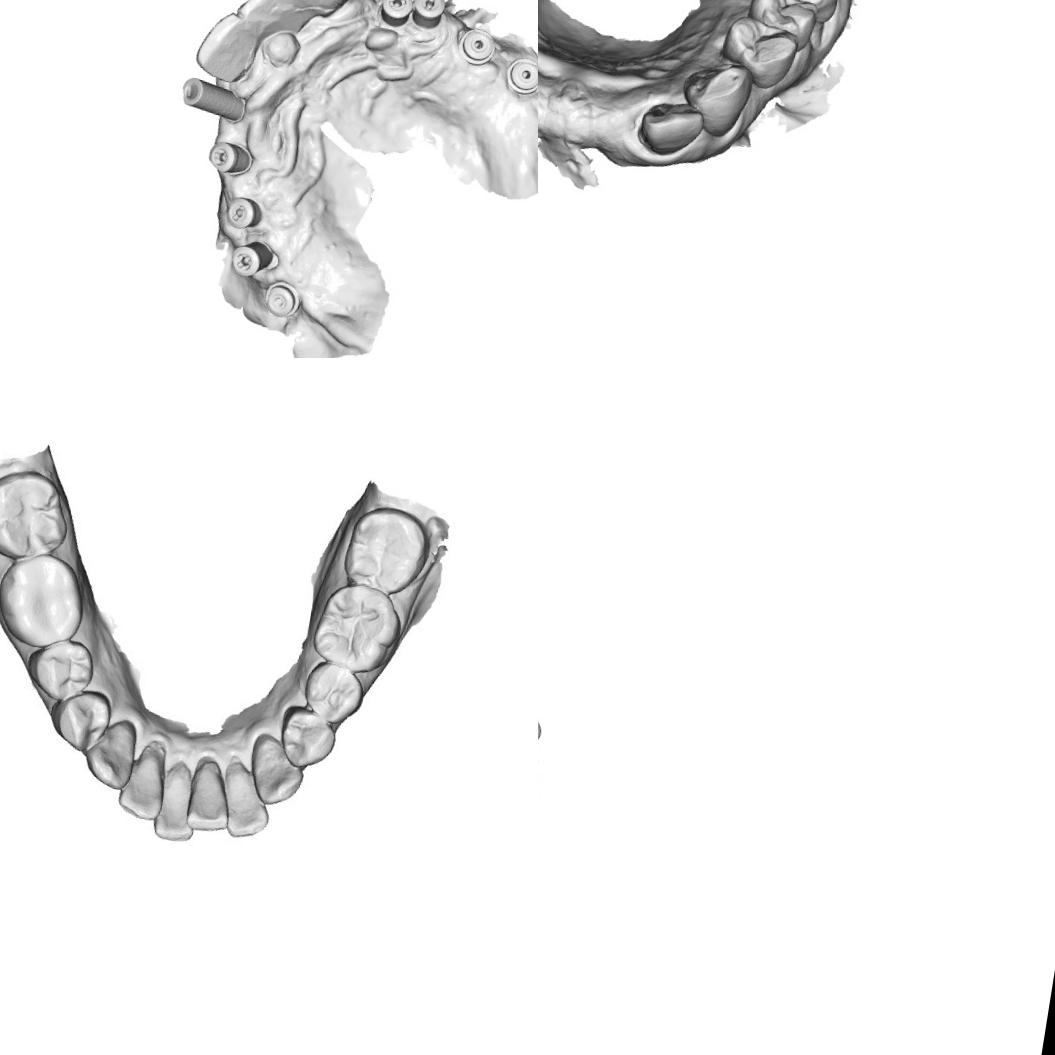canine: (675, 54, 762, 144), (242, 731, 310, 810), (78, 713, 141, 794)
implant: (176, 70, 250, 124), (456, 23, 500, 70), (260, 277, 304, 321), (501, 53, 538, 98)
implant_minus: (222, 194, 266, 234), (409, 0, 450, 33), (376, 0, 415, 29)
implant_plus: (224, 235, 282, 283), (204, 136, 256, 179)
incisor: (190, 5, 264, 88), (214, 760, 278, 844), (632, 94, 706, 162), (148, 761, 205, 844), (228, 0, 314, 54), (113, 745, 170, 824), (182, 758, 238, 836), (289, 0, 355, 22)
molar: (306, 575, 408, 680), (0, 546, 93, 656), (338, 500, 432, 598), (0, 461, 77, 568)
premolar: (714, 12, 802, 84), (20, 633, 100, 707), (45, 684, 115, 756), (274, 702, 340, 776), (299, 659, 369, 728), (742, 0, 822, 53)
